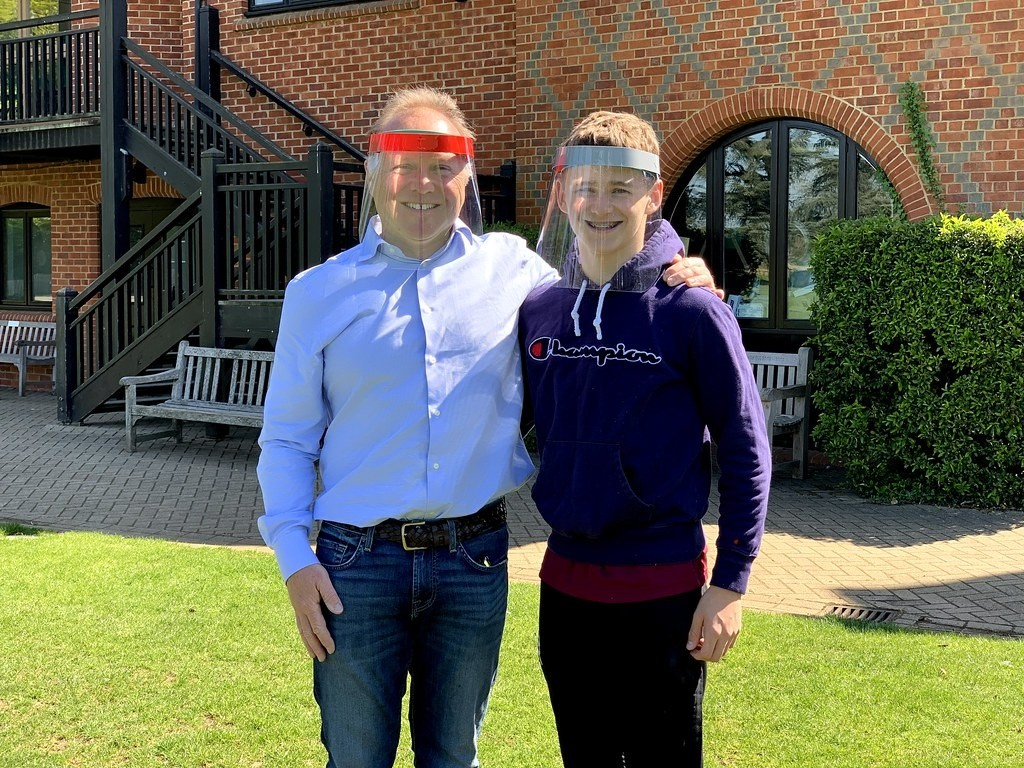face_no_mask: (372, 94, 471, 244), (567, 118, 648, 263)
